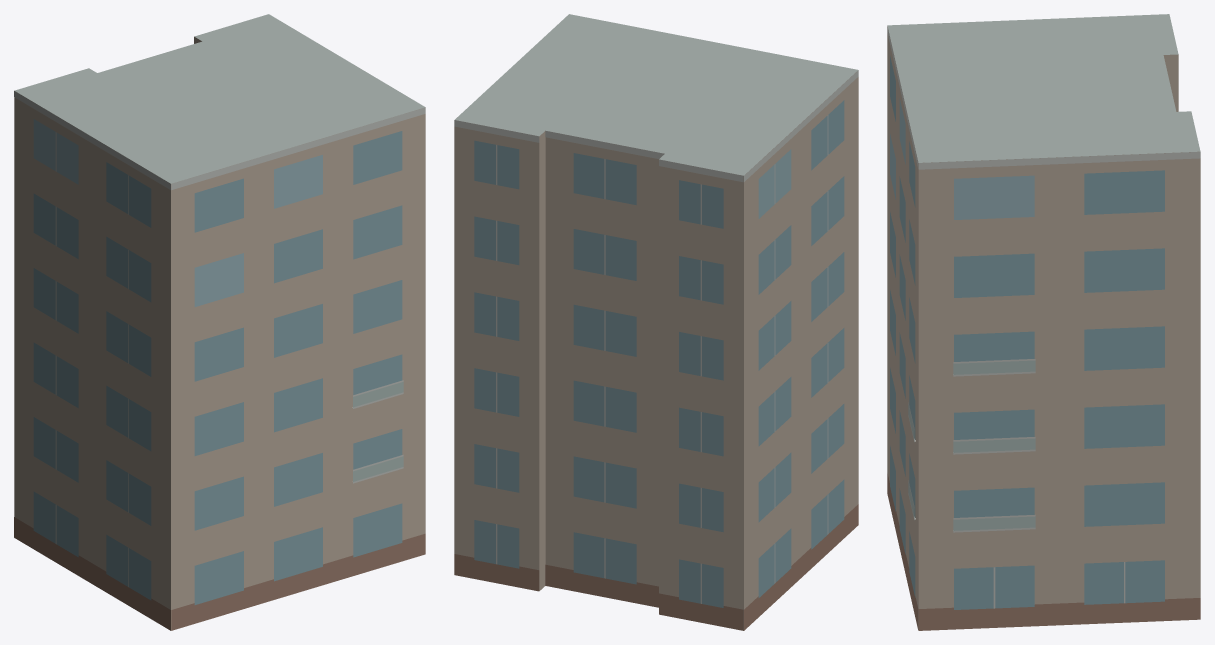
Rendered from survey-upis-32654452.glb.
3 views of the same model, side by side, from view 1: azimuth 30°, elevation 25°; view 2: azimuth 150°, elevation 25°; view 3: azimuth 270°, elevation 25° (orthographic). The views are drawn at different scales.
Parts seen in each view (by area): view 1: survey-upis-32654452.tmp; view 2: survey-upis-32654452.tmp; view 3: survey-upis-32654452.tmp.
Boxes of the visible parts, box(x1,y1,x2,y2) form: survey-upis-32654452.tmp: box(14, 14, 425, 630); survey-upis-32654452.tmp: box(454, 14, 858, 630); survey-upis-32654452.tmp: box(887, 14, 1200, 630).
Bounding box in the file's own units: 11.48 × 16.8 × 10.2.
